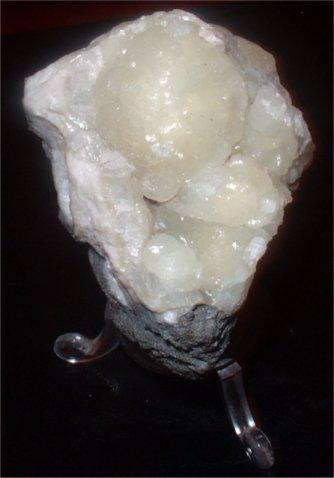prehnite: (23, 10, 314, 318)
